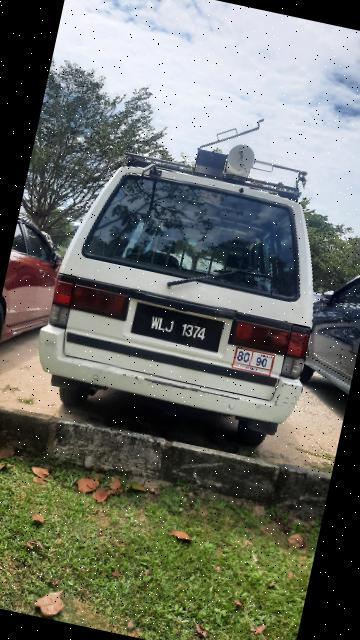License_Plate: (127, 301, 229, 360)
van: (22, 109, 353, 459)
